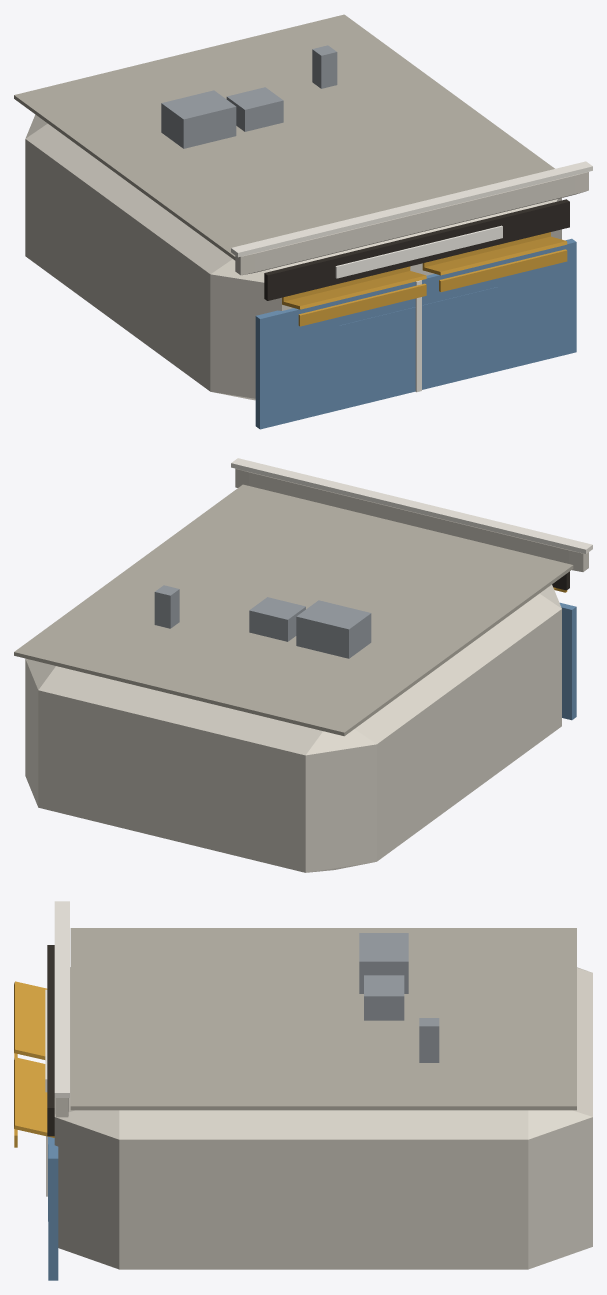
The model's file is laundromat.glb.
3 renders of one model, top to bottom at view 1: azimuth 30°, elevation 25°; view 2: azimuth 150°, elevation 25°; view 3: azimuth 270°, elevation 25°, orthographic. The views are drawn at different scales.
Visible parts, largest first — view 1: roofslab, walls, shopglass, bigglass, parapet, fascia, pcap, hvac, fasciatx, hvac2, valance, valance.001 (+6 smaller); view 2: walls, roofslab, parapet, pcap, hvac, hvac2, shopglass, pipe; view 3: roofslab, walls, pcap, awn.001, hvac, awn, hvac2, shopglass, fascia, pipe.
Part boxes in pixels (x1,y1,x2,y2): roofslab: [14, 14, 554, 260]; walls: [25, 114, 561, 400]; shopglass: [255, 238, 576, 429]; bigglass: [339, 287, 497, 395]; parapet: [235, 172, 588, 275]; fascia: [264, 199, 569, 300]; pcap: [231, 161, 592, 257]; hvac: [161, 90, 236, 148]; fasciatx: [335, 225, 502, 278]; hvac2: [226, 87, 283, 131]; valance: [298, 283, 426, 326]; valance.001: [439, 249, 567, 292]; walls: [25, 584, 561, 872]; roofslab: [14, 484, 573, 736]; parapet: [235, 468, 588, 571]; pcap: [231, 458, 592, 553]; hvac: [296, 600, 371, 658]; hvac2: [249, 597, 305, 641]; shopglass: [559, 602, 576, 720]; pipe: [154, 585, 179, 628]; roofslab: [70, 928, 576, 1110]; walls: [54, 967, 592, 1269]; pcap: [54, 901, 69, 1097]; awn.001: [14, 1057, 54, 1137]; hvac: [359, 933, 408, 993]; awn: [14, 981, 47, 1059]; hvac2: [364, 975, 404, 1020]; shopglass: [48, 1137, 58, 1280]; fascia: [47, 945, 54, 1136]; pipe: [419, 1018, 439, 1062].
Bounding box in the file's own units: 10.1 × 5.3 × 12.91.
